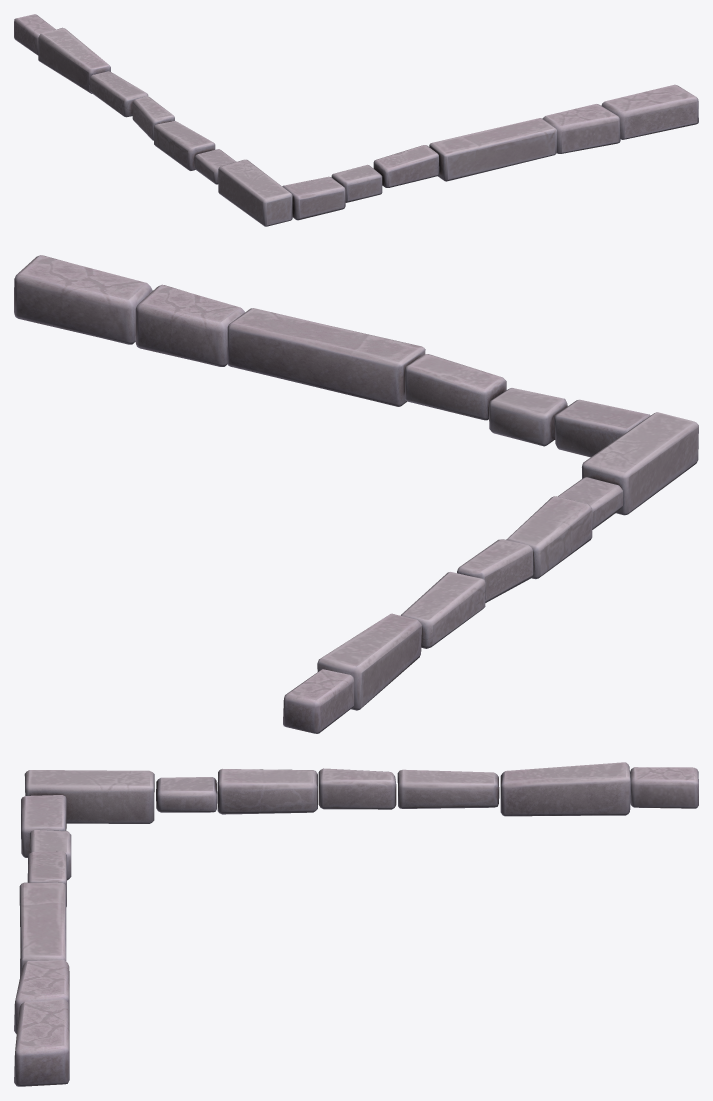
Rendered from SM_BorderAngle.glb.
3 views of the same model, one above another, from view 1: azimuth 30°, elevation 25°; view 2: azimuth 150°, elevation 25°; view 3: azimuth 270°, elevation 25° (orthographic). The views are drawn at different scales.
Visible parts, largest first — view 1: SM_BorderAngle_LOD0; view 2: SM_BorderAngle_LOD0; view 3: SM_BorderAngle_LOD0.
Boxes of the visible parts, left/top/right/bottom form: SM_BorderAngle_LOD0: left=14, top=14, right=698, bottom=226; SM_BorderAngle_LOD0: left=14, top=255, right=698, bottom=733; SM_BorderAngle_LOD0: left=14, top=762, right=698, bottom=1086.
Size of the model in its own units: 5.13 by 0.3649 by 5.18.
Materials: 1 (1 with a texture image).
